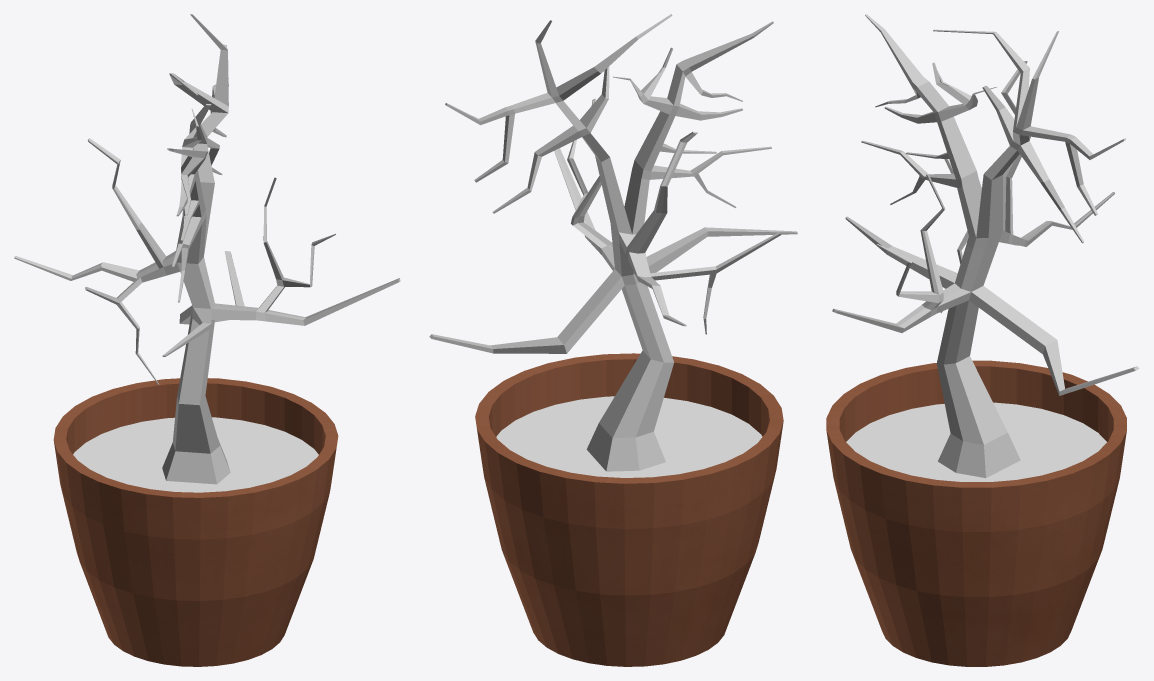
File: planta1.fbx
3 renders of one model, left to right at view 1: azimuth 30°, elevation 25°; view 2: azimuth 150°, elevation 25°; view 3: azimuth 270°, elevation 25°, orthographic. The views are drawn at different scales.
Visible parts, largest first — view 1: Cylinder.001; view 2: Cylinder.001; view 3: Cylinder.001.
Part boxes in pixels (left/top/right/bottom): Cylinder.001: left=14, top=14, right=400, bottom=666; Cylinder.001: left=429, top=14, right=797, bottom=666; Cylinder.001: left=826, top=14, right=1139, bottom=666.
Bounding box in the file's own units: 183 × 384 × 178.
